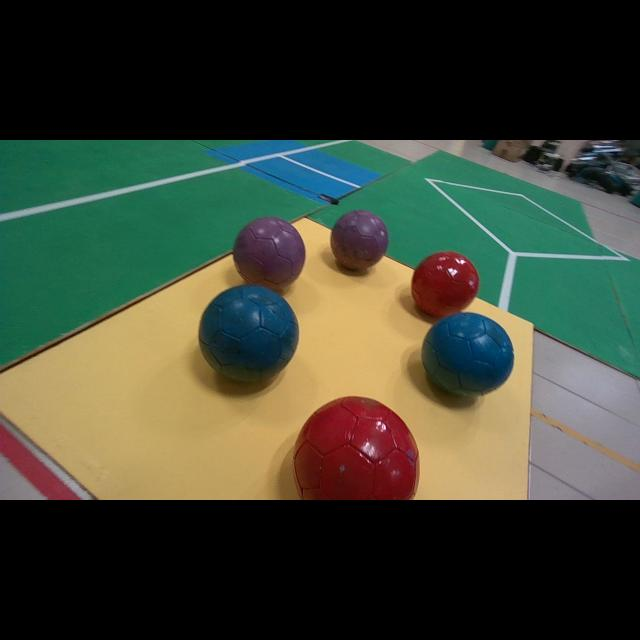B: (199, 285, 299, 382), (421, 312, 514, 395)
P: (235, 216, 305, 292), (330, 210, 389, 270)
R: (294, 396, 419, 499), (411, 251, 479, 317)
